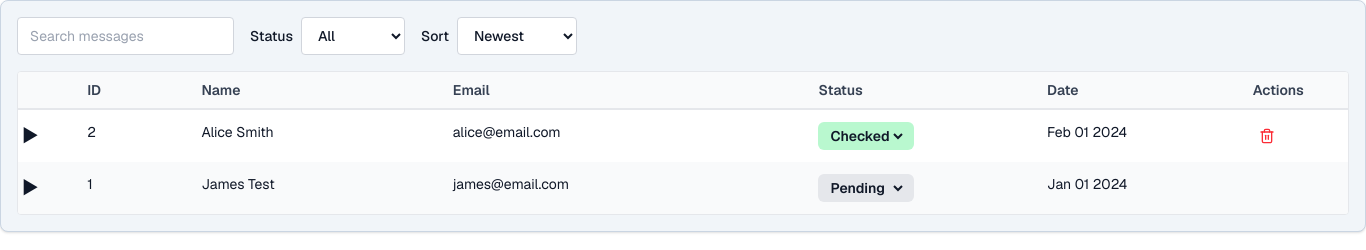
clearing search shows all messages again
Expected: the text "James Test" is shown, [189, 162, 441, 214]
Step 1. Type "Alice" into the field with placeholder "Search messages" → (126, 36), box [17, 17, 234, 55]
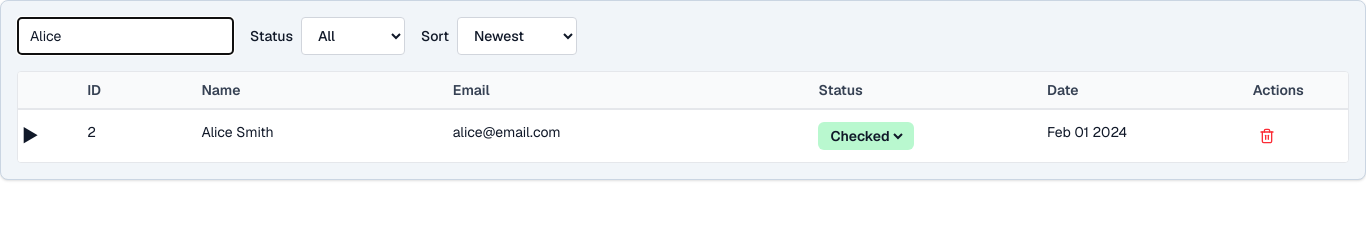
Now the text "James Test" is gone
Step 2. Clear the field with placeholder "Search messages" → (126, 36), box [17, 17, 234, 55]
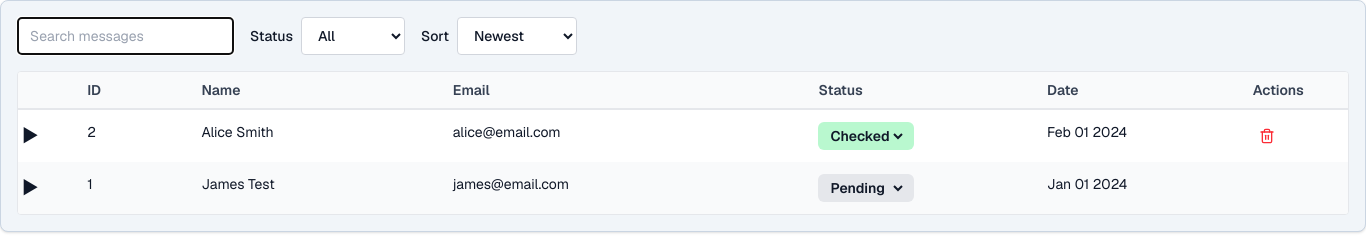
Expected: the text "Alice Smith" is shown, [189, 109, 441, 162]
Now the text "James Test" is shown, box [189, 162, 441, 214]
